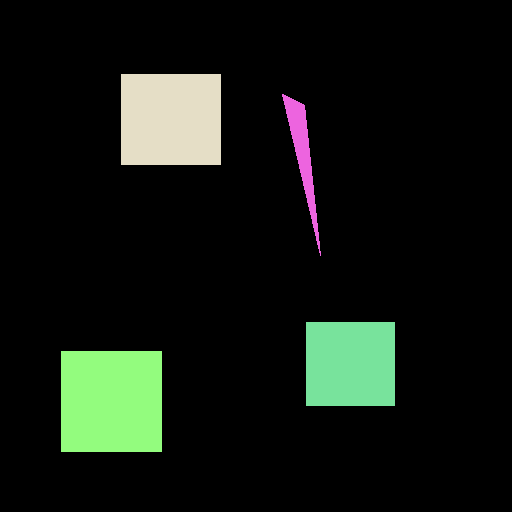square: (61, 351, 161, 451), (121, 74, 220, 164), (306, 322, 394, 405)
triangle: (282, 94, 320, 255)
